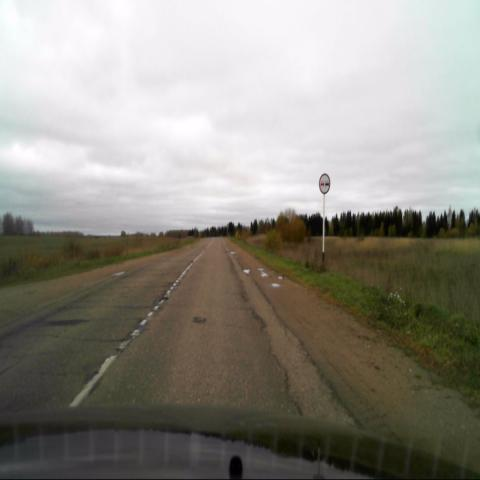3_20: (319, 173, 330, 194)
